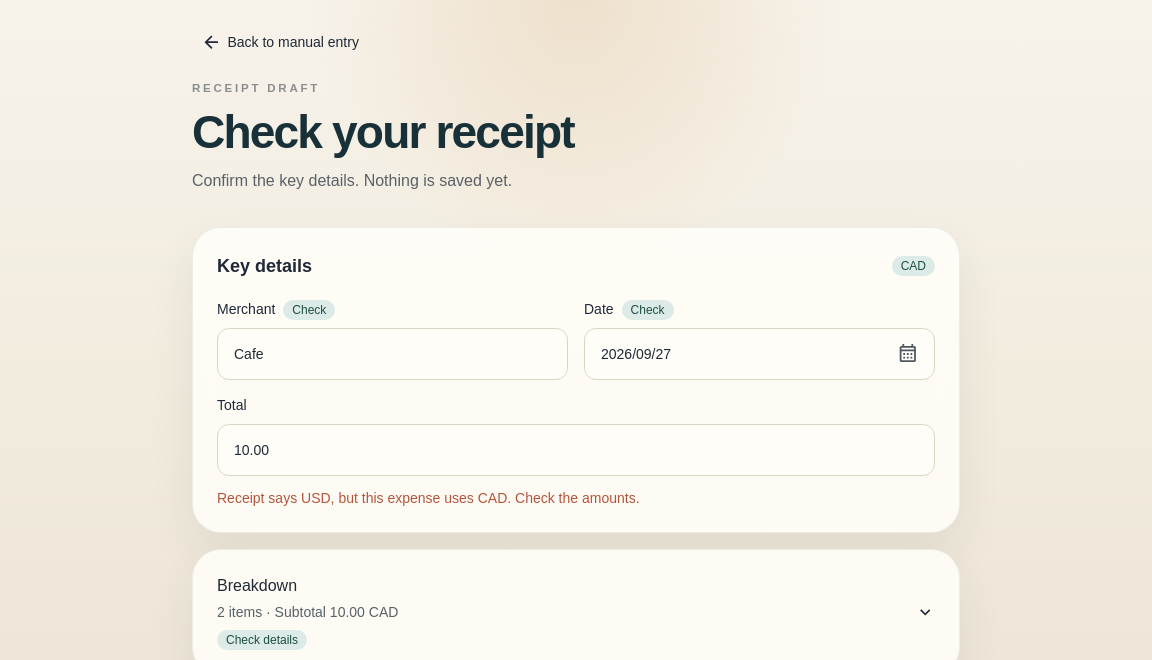
Scenario: ReceiptDraftReview › starts with the breakdown collapsed and opens item controls on demand
Expected: the text "2 items · Subtotal 10.00 CAD" is shown, [217,602,398,622]
Expected: the text "Check details" is shown, [217,630,307,650]
Click the heading "Breakdown".
click(257, 585)  # box [217,574,935,650]
(page scrolled)
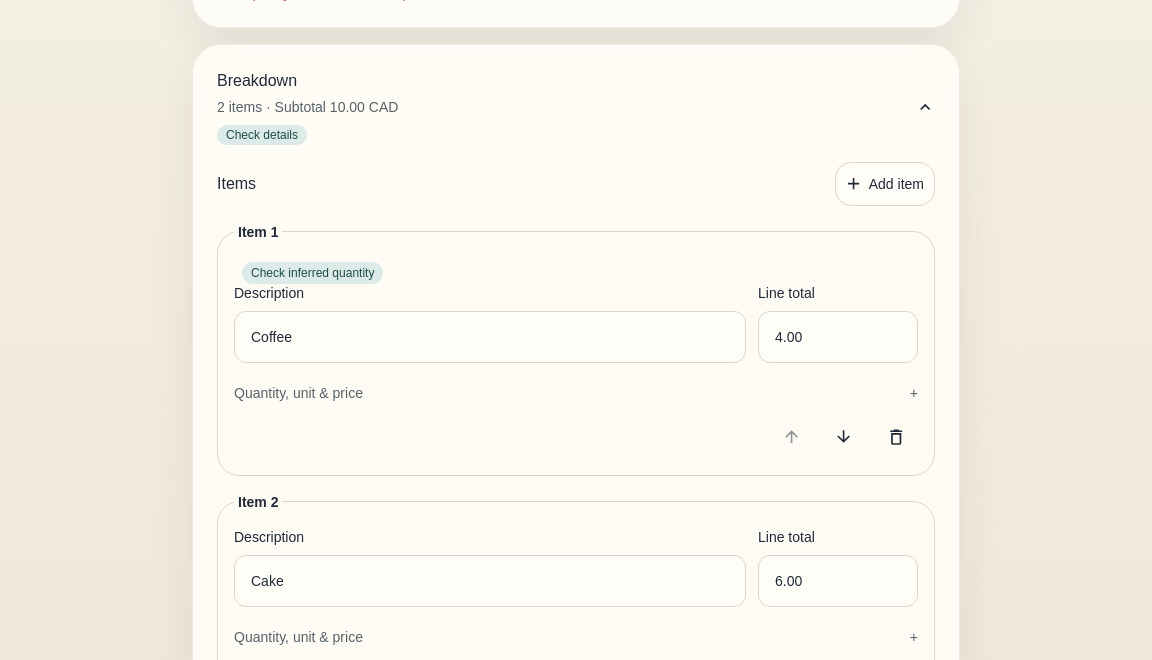
Expected: the element "Item 1" is shown, [217,222,935,476]
